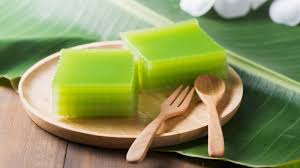kanomchan: (120, 17, 236, 94), (51, 44, 145, 127)
